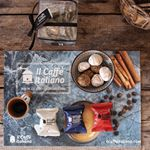cups: (5, 89, 36, 122)
